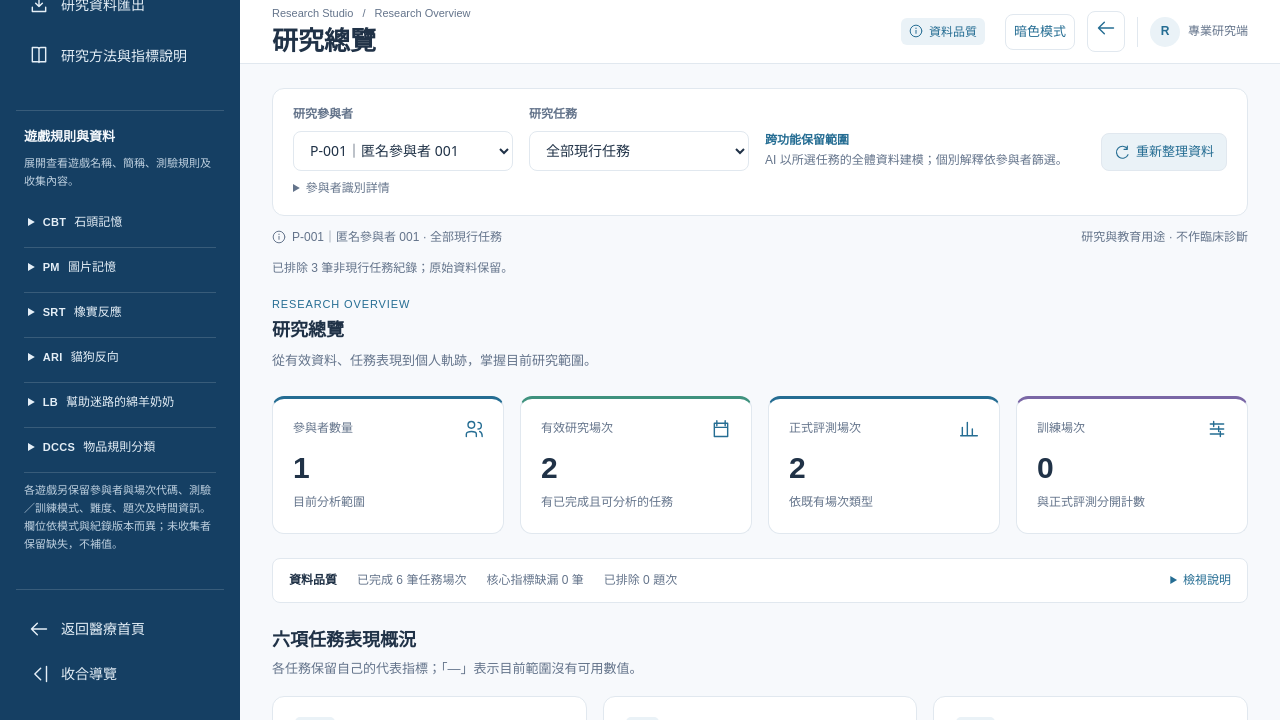
Test: sidebar uses the game logo and provides six game guides when expanded or collapsed
This screenshot has width=1280, height=720.
(page scrolled)
Click the button with aria-label "收合側邊導覽". click: [120, 674]
box: [16, 651, 224, 696]
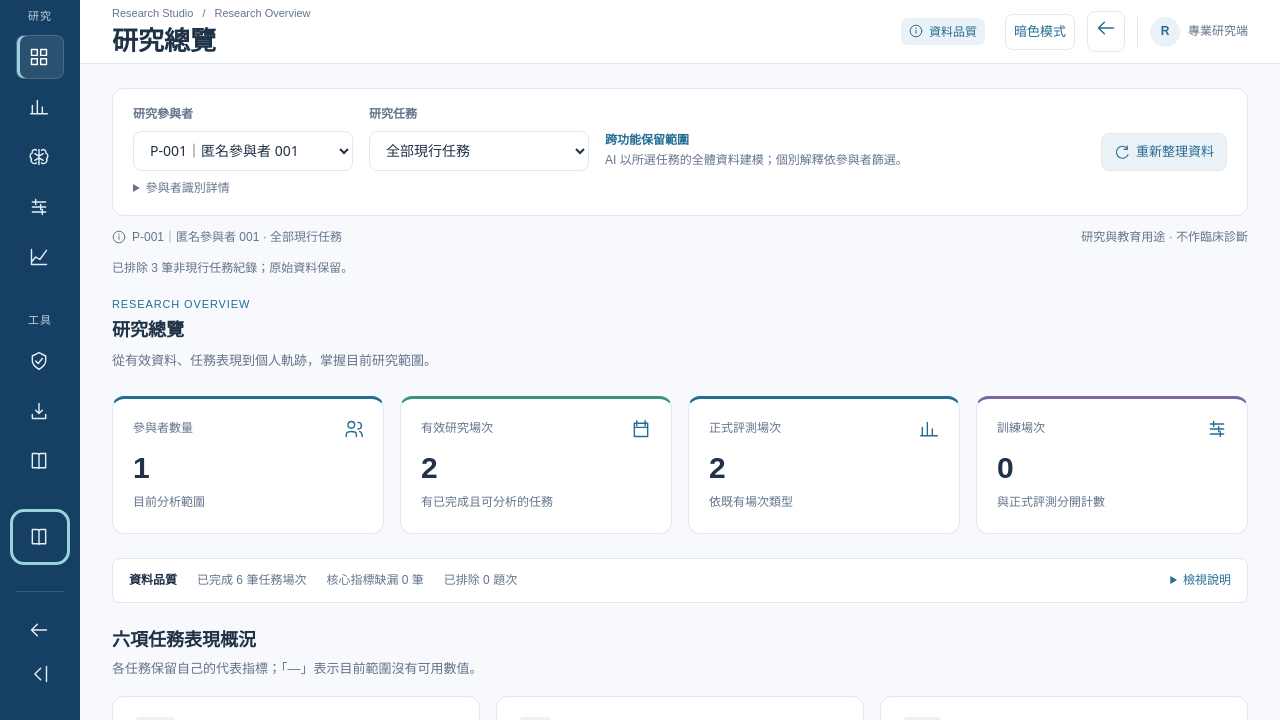
Click the button named "遊戲規則與收集資料". click: [40, 537]
box: [16, 515, 64, 559]
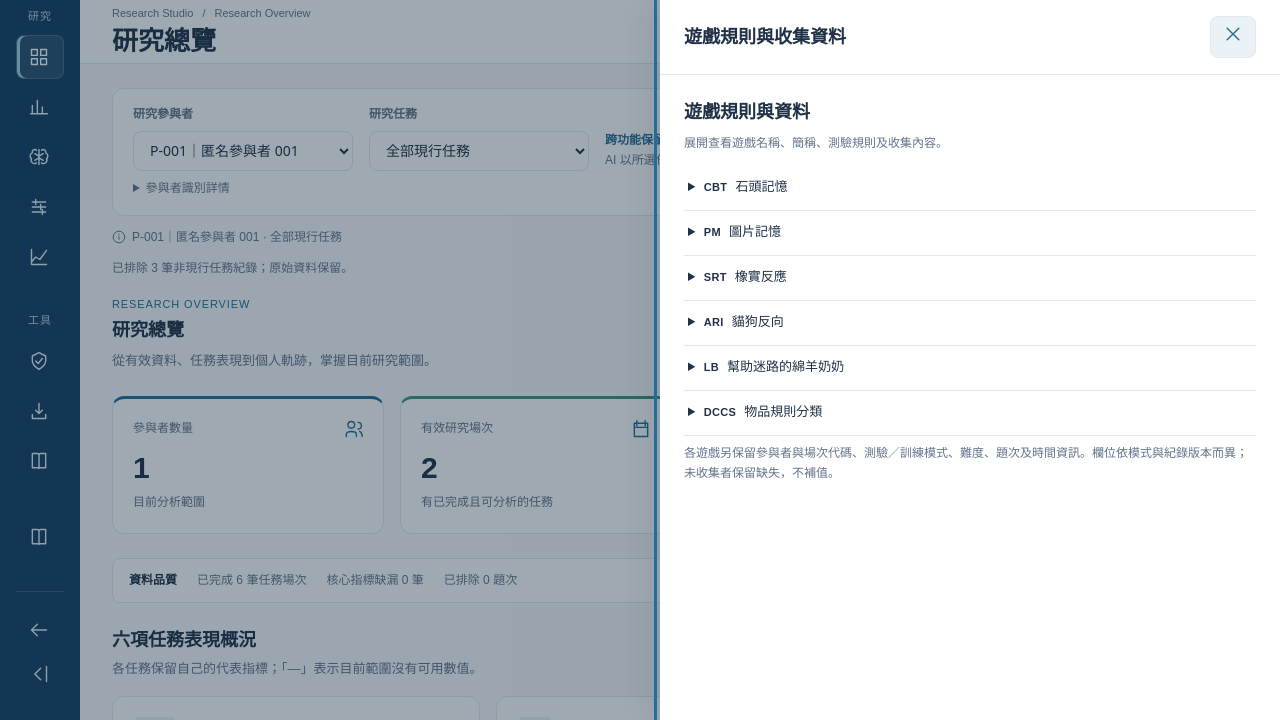
Press Escape in the dialog "遊戲規則與收集資料", box [660, 0, 1279, 719]
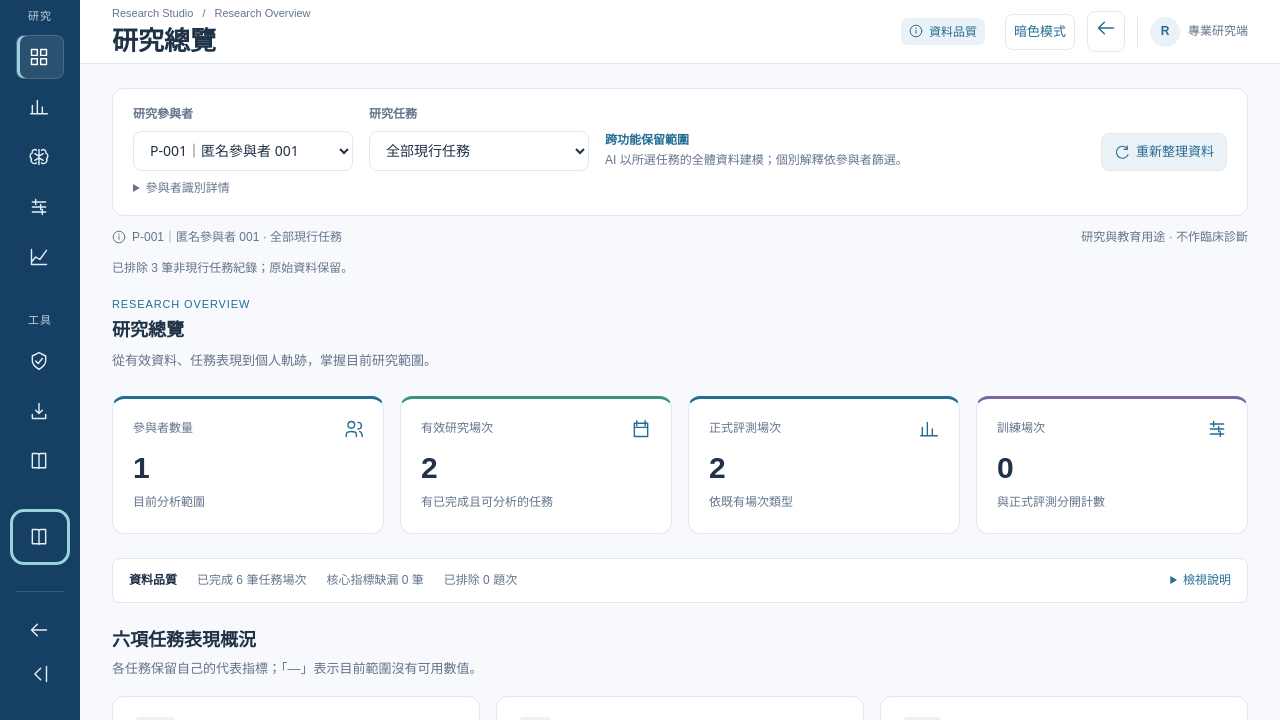
Click the button named "展開側邊導覽". click: [40, 674]
box: [16, 652, 64, 696]
(page scrolled)
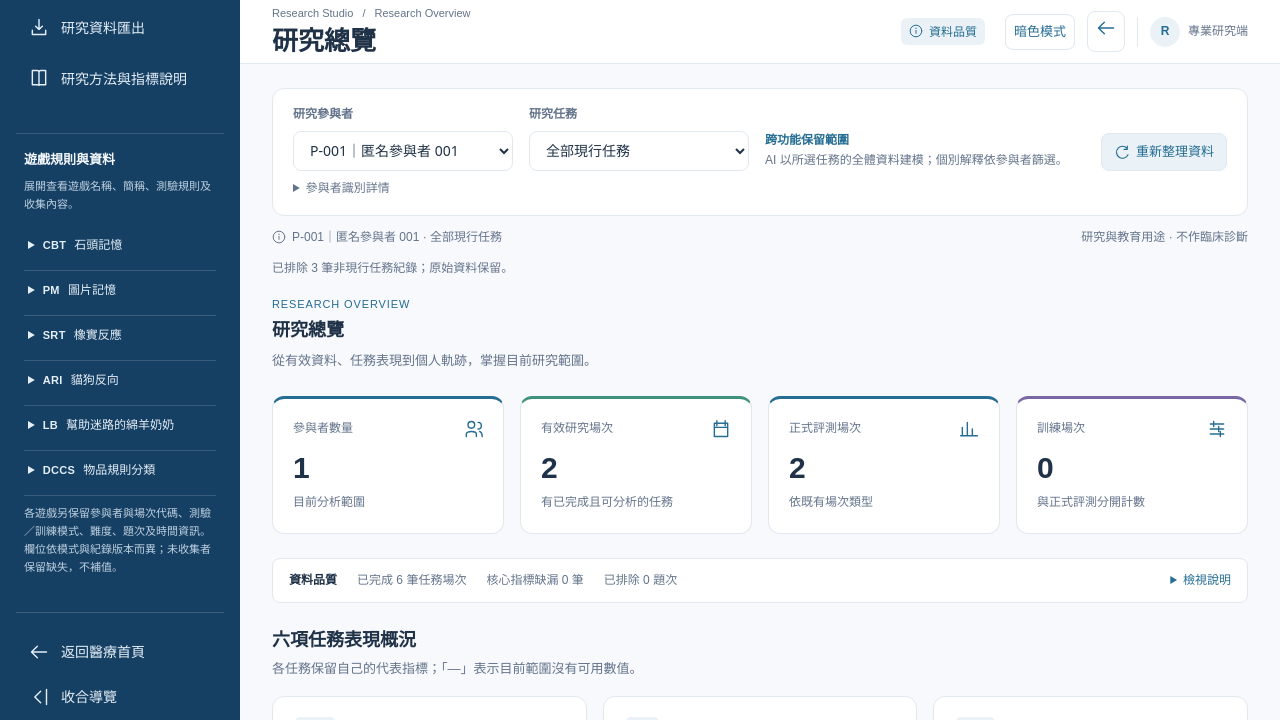
Expected: the element named "遊戲規則與收集資料" is shown, [16, 133, 224, 588]
